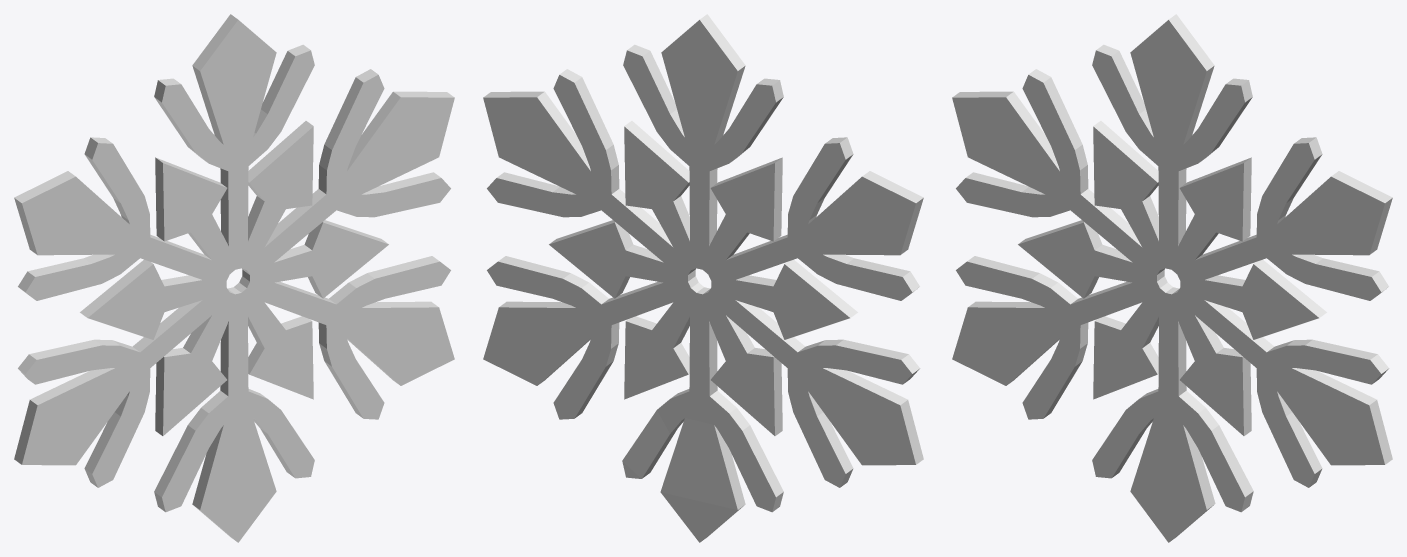
File: Snowflake_05.fbx
3 renders of one model, left to right at view 1: azimuth 30°, elevation 25°; view 2: azimuth 150°, elevation 25°; view 3: azimuth 330°, elevation 25°, orthographic.
Visible parts, largest first — view 1: Snowflake_05; view 2: Snowflake_05; view 3: Snowflake_05.
Boxes of the visible parts, left/top/right/bottom form: Snowflake_05: left=14, top=14, right=454, bottom=542; Snowflake_05: left=483, top=14, right=923, bottom=542; Snowflake_05: left=952, top=14, right=1392, bottom=542.
Bounding box in the file's own units: 0.2329 × 0.2689 × 0.0081.
